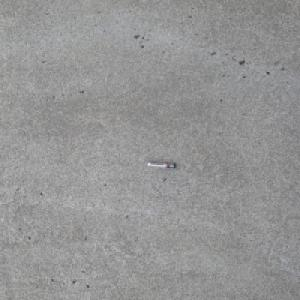Battery: (146, 162, 177, 168)
